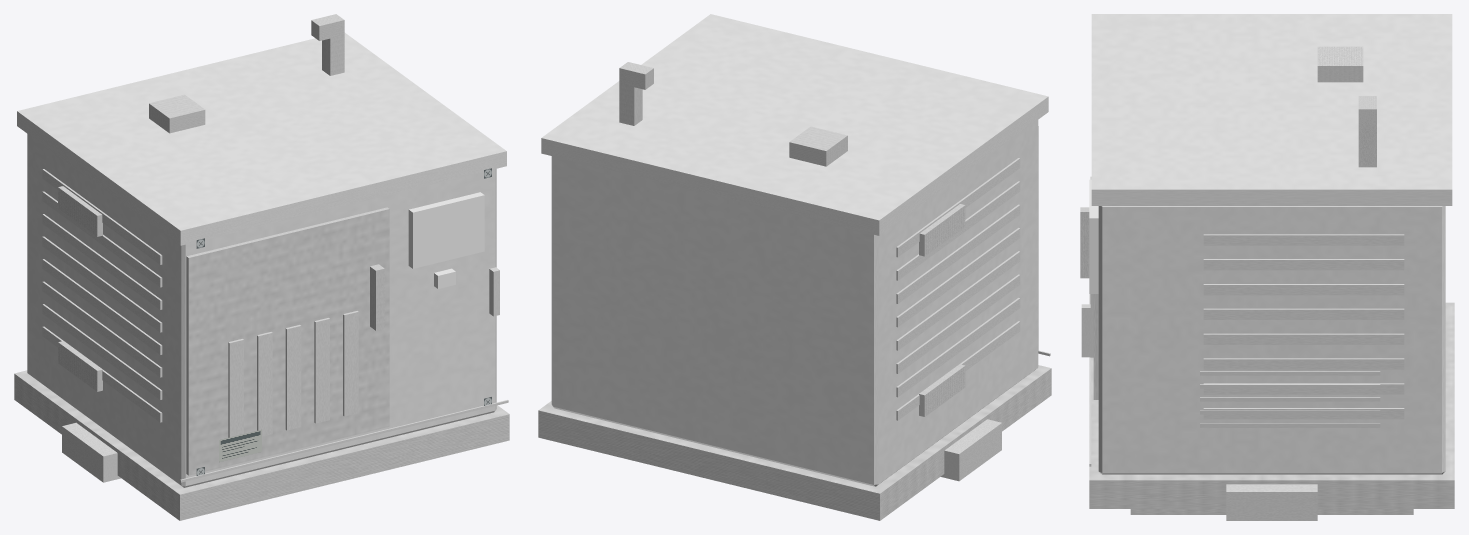
File: standbygenerator.obj
3 views of the same model, side by side, from view 1: azimuth 30°, elevation 25°; view 2: azimuth 150°, elevation 25°; view 3: azimuth 270°, elevation 25° (orthographic). The views are drawn at different scales.
Visible parts, largest first — view 1: Case, Trim, Vents, Display, Output; view 2: Case, Trim, Vents, Output; view 3: Case, Trim, Vents, Output, Display.
Part boxes in pixels (left/top/right/bottom): Case: left=17, top=33, right=506, bottom=487; Trim: left=14, top=14, right=509, bottom=520; Vents: left=42, top=169, right=358, bottom=437; Display: left=408, top=192, right=484, bottom=268; Output: left=62, top=422, right=120, bottom=482; Case: left=541, top=14, right=1048, bottom=486; Trim: left=538, top=62, right=1051, bottom=520; Vents: left=896, top=158, right=1020, bottom=420; Output: left=940, top=419, right=1001, bottom=481; Case: left=1091, top=14, right=1452, bottom=474; Trim: left=1080, top=46, right=1454, bottom=514; Vents: left=1090, top=176, right=1404, bottom=419; Output: left=1226, top=484, right=1317, bottom=520; Display: left=1089, top=179, right=1098, bottom=280.
Size of the model in its own units: 1 by 0.95 by 0.82.
